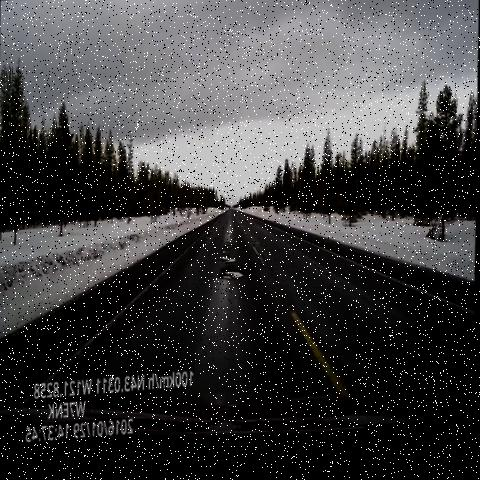pothole: (219, 265, 251, 299), (216, 238, 242, 271)
